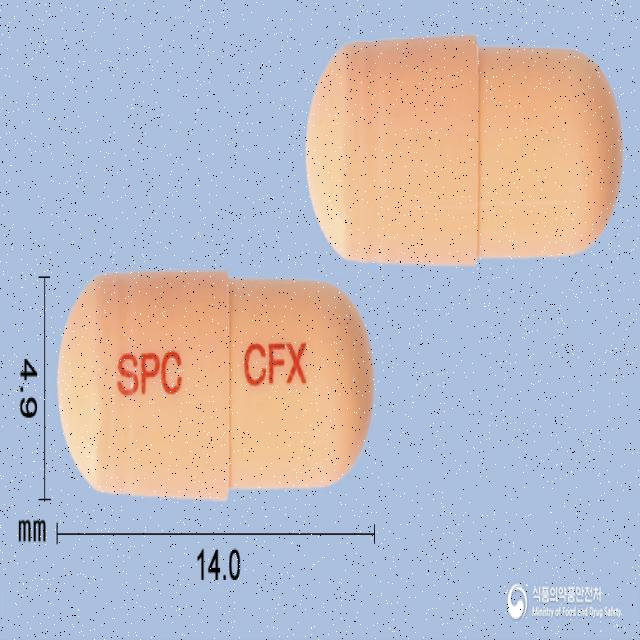Seoul Cefixime Cap: (304, 38, 622, 269), (58, 271, 375, 501)
